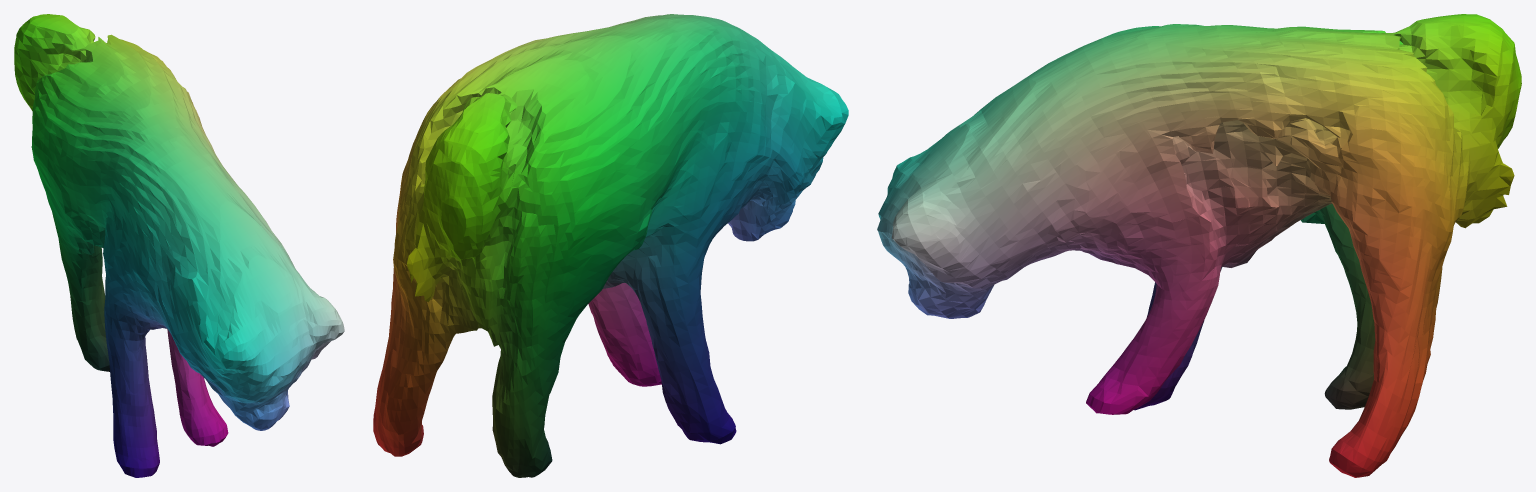
Rendered from shiba-haru-1001-mesh-00074.obj.
3 renders of one model, left to right at view 1: azimuth 30°, elevation 25°; view 2: azimuth 150°, elevation 25°; view 3: azimuth 270°, elevation 25°, orthographic. The views are drawn at different scales.
Size of the model in its own units: 0.05 by 0.0854 by 0.1195.
